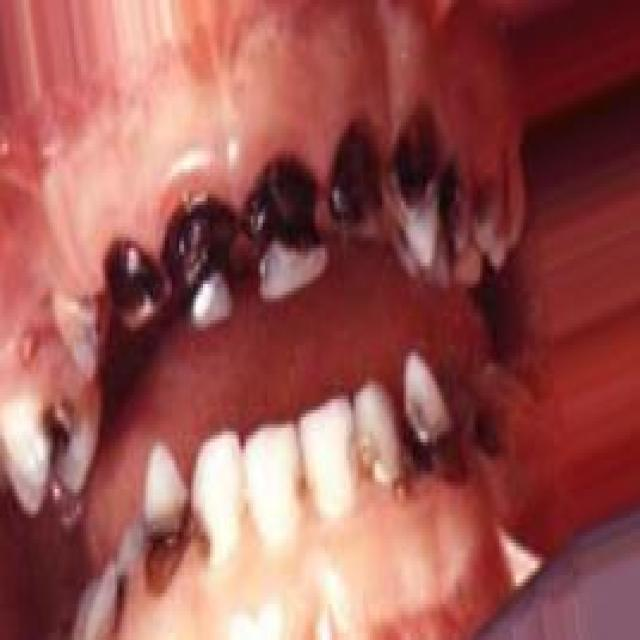caries: (246, 162, 332, 316), (162, 196, 239, 342), (406, 354, 469, 506), (5, 381, 92, 483), (95, 232, 162, 345), (334, 118, 387, 260), (390, 103, 448, 223), (47, 283, 112, 387), (142, 506, 215, 598), (435, 140, 489, 246), (463, 376, 519, 474), (350, 420, 403, 510)
